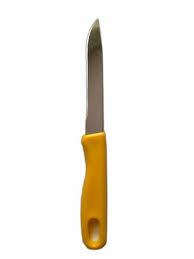Knife: (80, 17, 107, 249)
